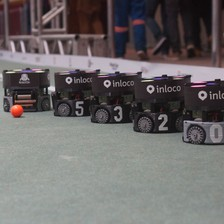ball: (8, 103, 24, 118)
robot: (130, 70, 183, 136), (178, 76, 224, 148), (88, 69, 135, 127), (1, 63, 54, 114), (50, 65, 94, 119)
